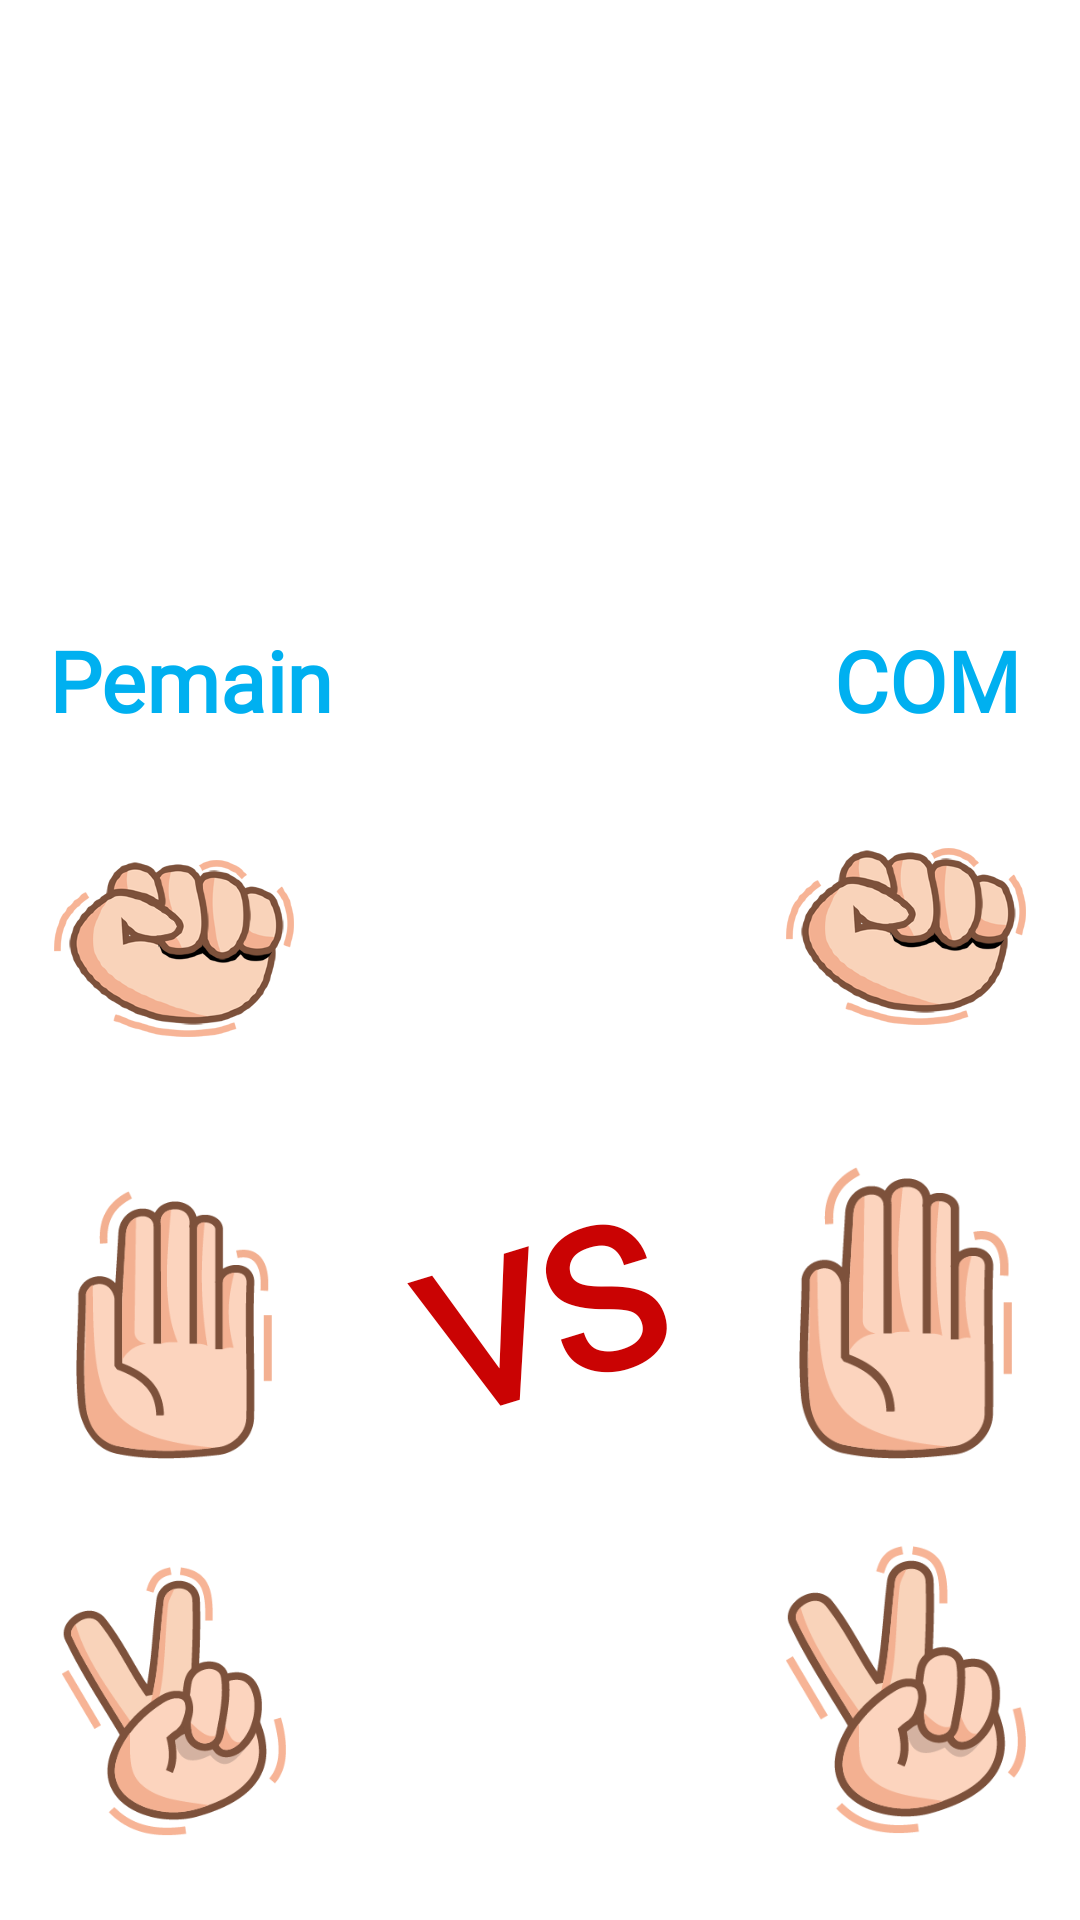

Icon click points for this 1080px×1920px phone screenshot, format (x=x, y=y):
Batu: (x=906, y=936), (x=174, y=948)
Gunting: (x=906, y=1689), (x=174, y=1701)
Kertas: (x=905, y=1313), (x=174, y=1325)
